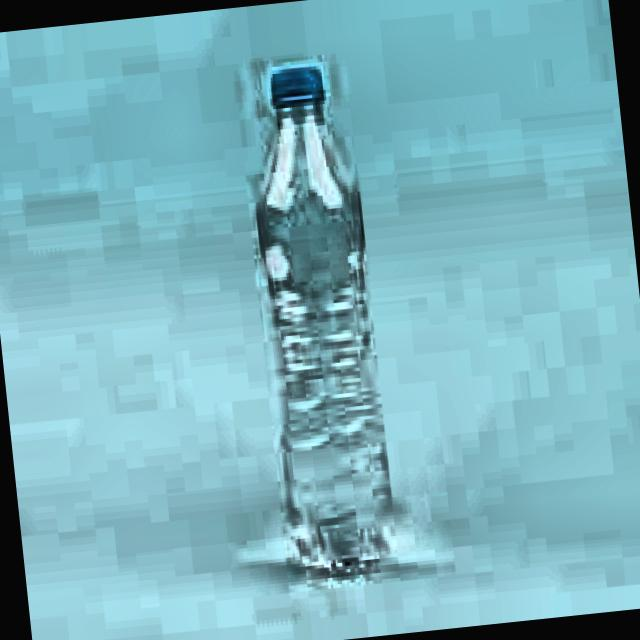plastic bottle: (257, 65, 392, 570)
